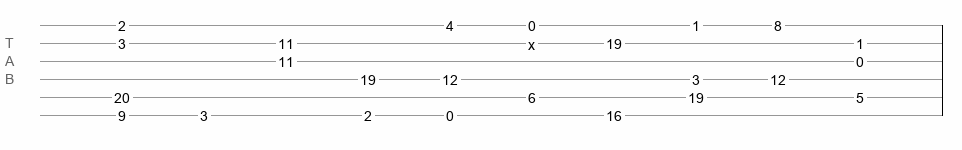0: (446, 108, 454, 118), (528, 18, 536, 28), (856, 54, 864, 64)
1: (692, 18, 700, 28), (856, 36, 864, 46)
11: (278, 36, 294, 46), (278, 54, 294, 64)
12: (442, 72, 458, 82), (770, 72, 786, 82)
16: (606, 108, 622, 118)
19: (360, 72, 376, 82), (606, 36, 622, 46), (688, 90, 704, 100)
2: (118, 18, 126, 28), (364, 108, 372, 118)
20: (114, 90, 130, 100)
3: (118, 36, 126, 46), (200, 108, 208, 118), (692, 72, 700, 82)
4: (446, 18, 454, 28)
5: (856, 90, 864, 100)
6: (528, 90, 536, 100)
8: (774, 18, 782, 28)
9: (118, 108, 126, 118)
x: (528, 37, 535, 45)
